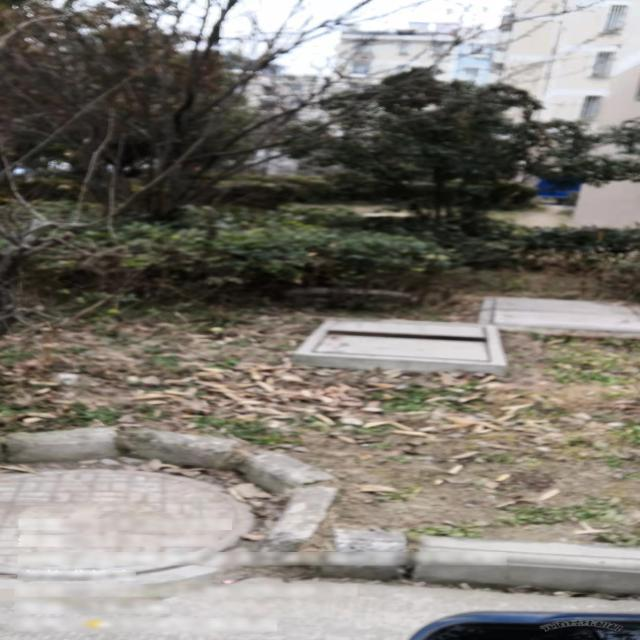Faulty: (290, 316, 508, 370)
Good: (4, 467, 278, 585), (476, 292, 640, 342)
